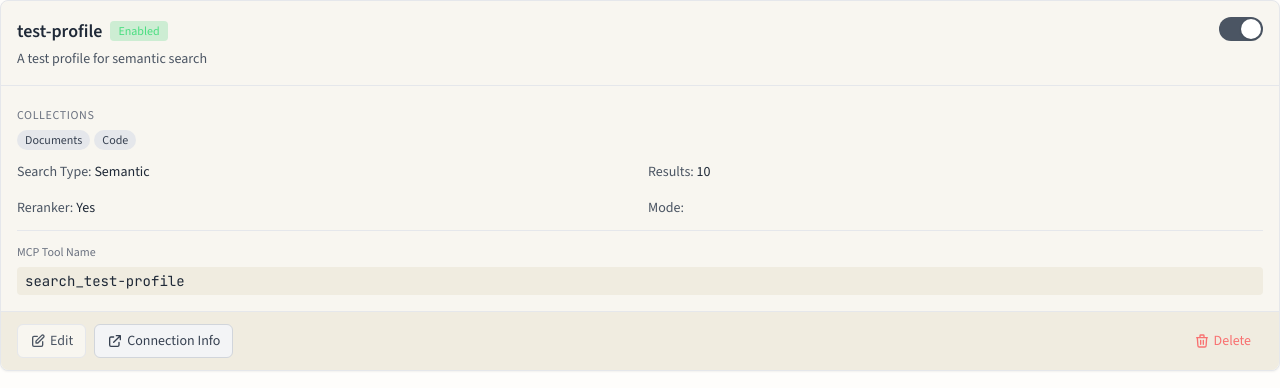
Test: ProfileCard › Toggle Switch › should show error indicator on toggle failure
The image size is (1280, 388).
Click the switch: click(1241, 29) [1219,17,1263,41]
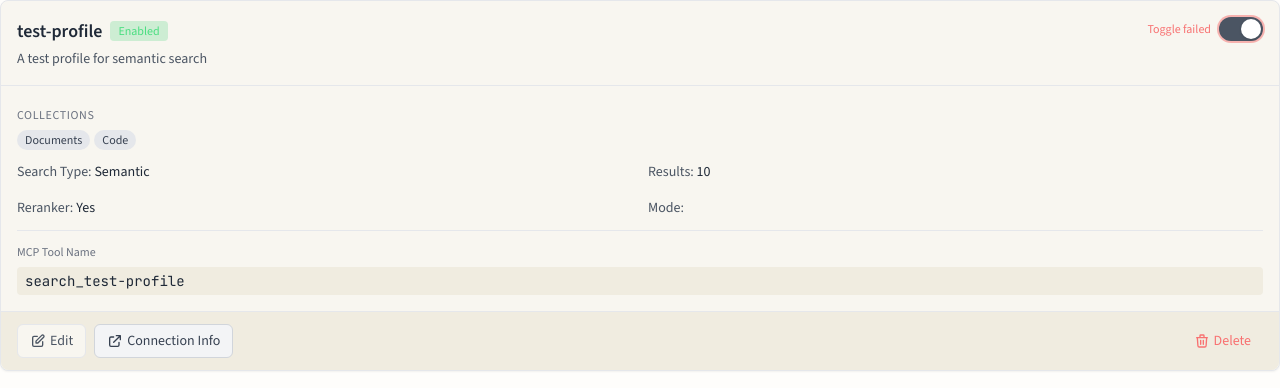
Expected: the text "Toggle failed" is shown, [1147,21,1211,37]
